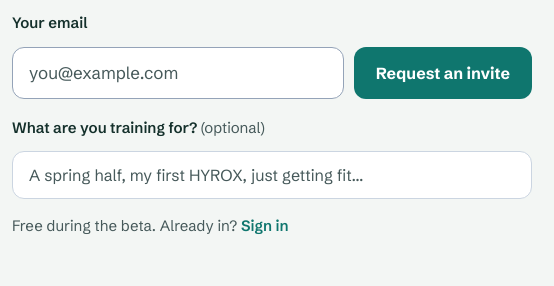
Test: errors › 503 or 5xx shows copy.md’s message and moves focus to it
Type "new@example.com" into the field labelled "Your email" at (178, 72), box [12, 46, 344, 98]
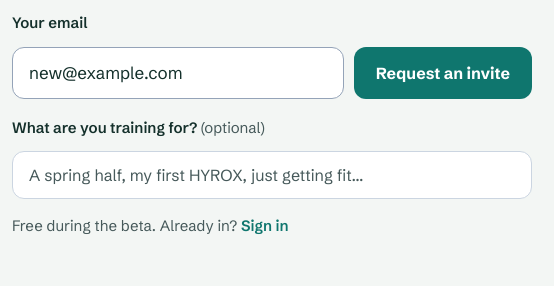
Click the button "Request an invite" at (443, 72), box [354, 46, 532, 98]
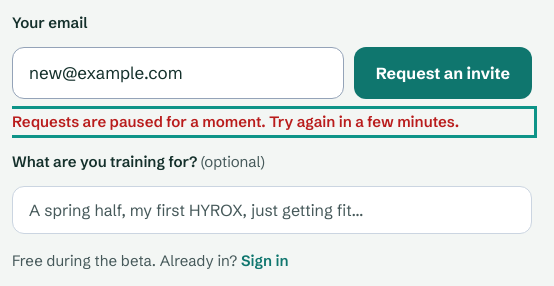
expect the message reads "Requests are paused for a moment. Try again in a few minutes.": met, box [12, 112, 459, 130]
